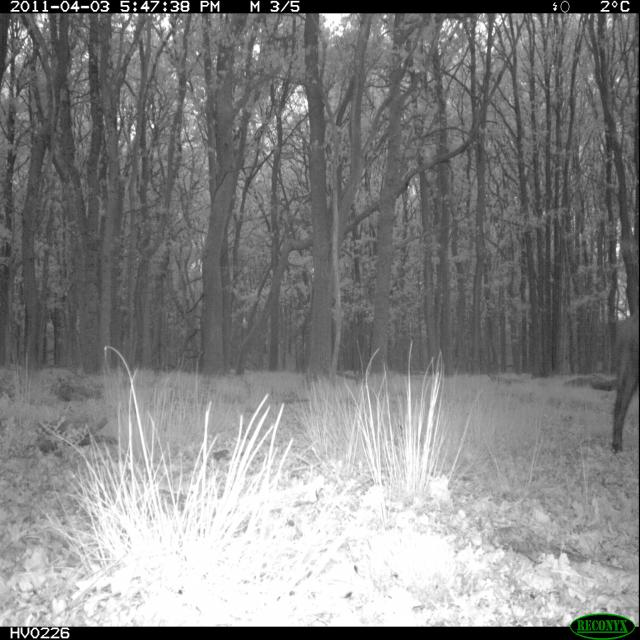boar: (600, 292, 640, 459)
